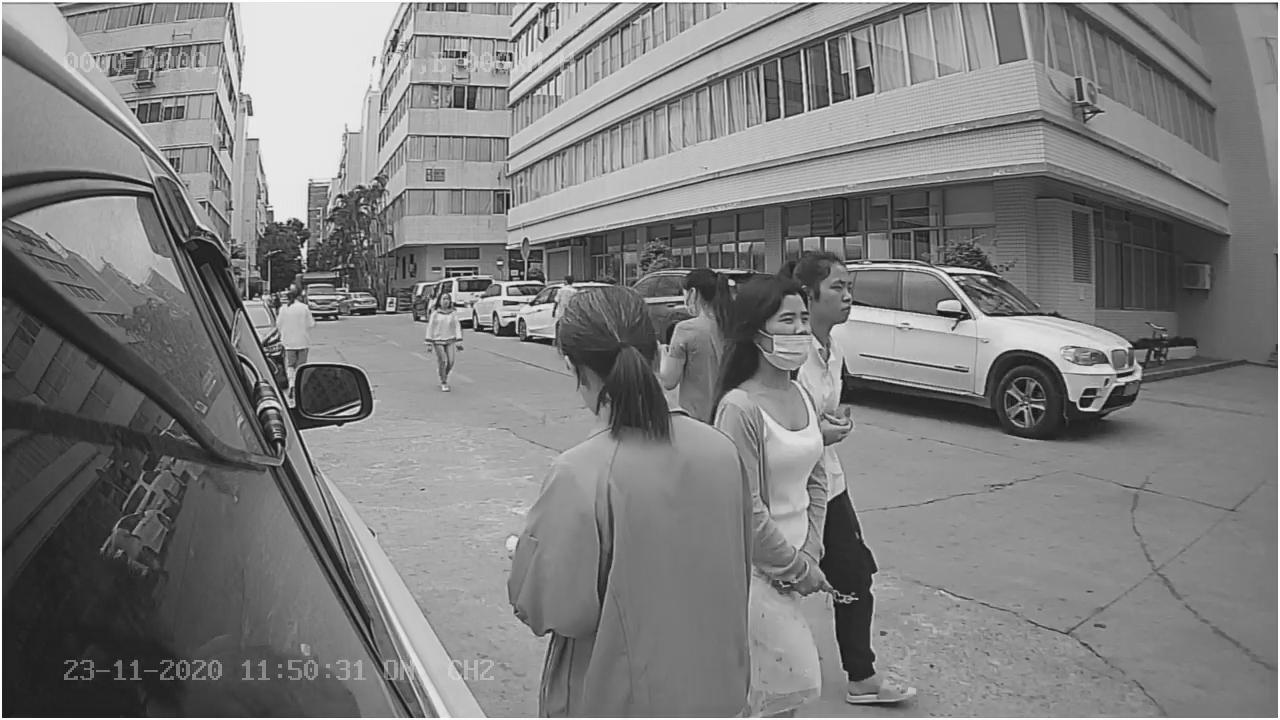person: (491, 293, 744, 634)
